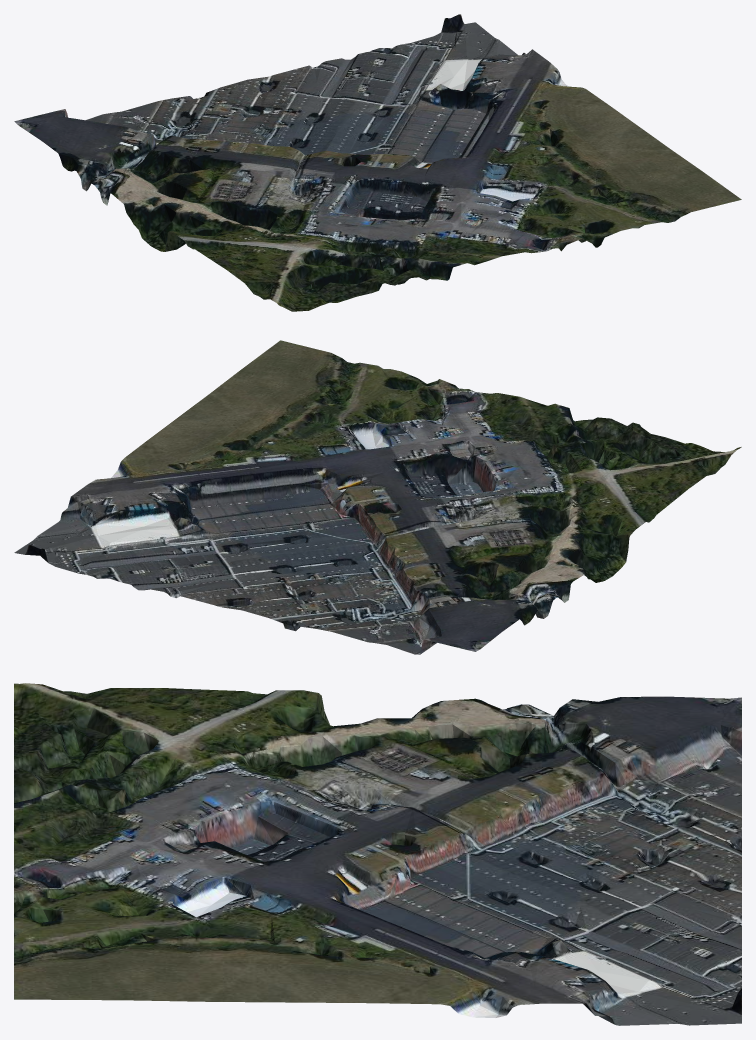
The model's file is map_13_2045_3445.dae.
The picture shows the model from 3 angles, top to bottom: view 1: azimuth 30°, elevation 25°; view 2: azimuth 150°, elevation 25°; view 3: azimuth 270°, elevation 25°; orthographic projection. The views are drawn at different scales.
Visible parts, largest first — view 1: Ter0; view 2: Ter0; view 3: Ter0.
Part boxes in pixels (<box>): Ter0: <box>14,14,741,311</box>; Ter0: <box>14,340,741,654</box>; Ter0: <box>14,683,741,1025</box>.
Bounding box in the file's own units: 256 × 256 × 25.01.
2 materials, 2 textured.
